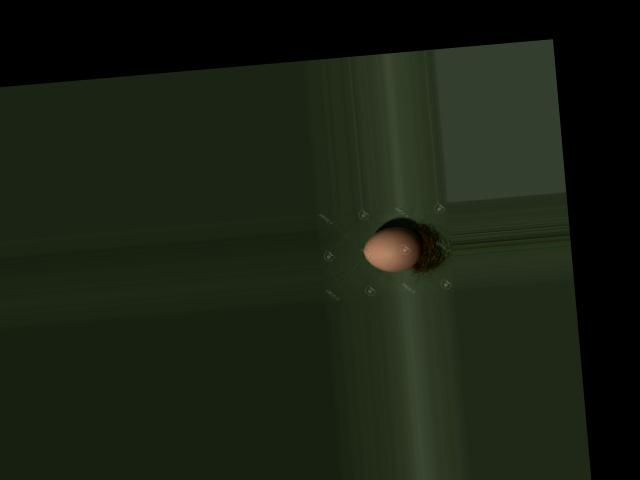egg: (361, 224, 423, 273)
